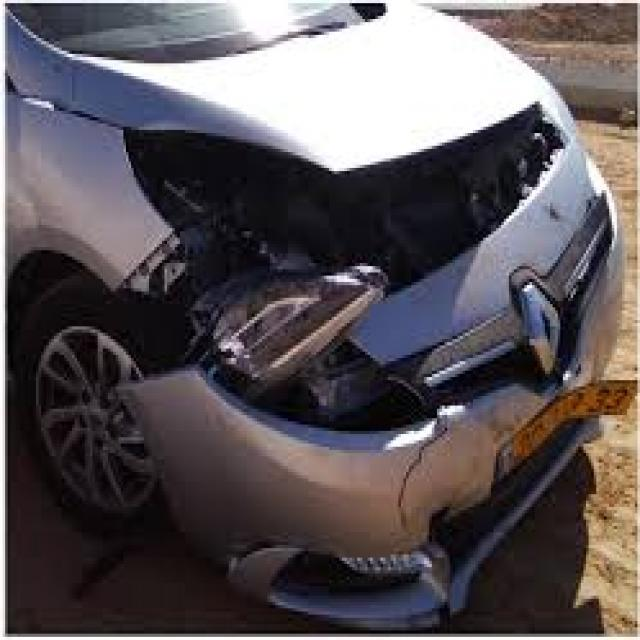damaged-hood: (68, 2, 563, 246)
